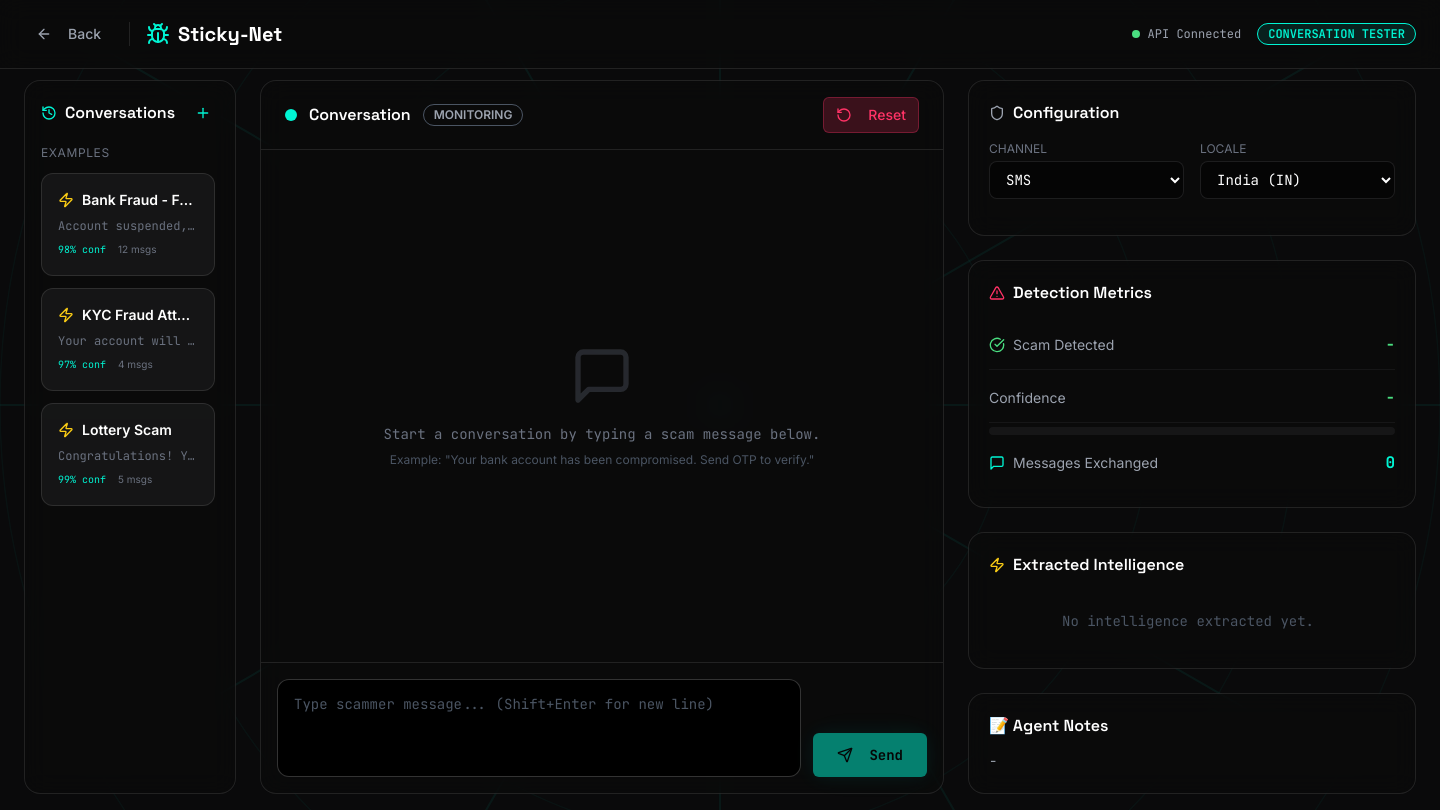
Test: ChatDashboard › shows the agent reply, verdict and intel for a scam message
The width and height of the screenshot is (1440, 810).
Expected: the text "API Connected" is shown, [1148, 26, 1241, 42]
Type "Your SBI account is blocked. Pay to fraud.help@okaxis" into the text box with placeholder "Type scammer message... (Shift+Enter for new line)" at {"x": 539, "y": 728}, box [277, 679, 801, 777]
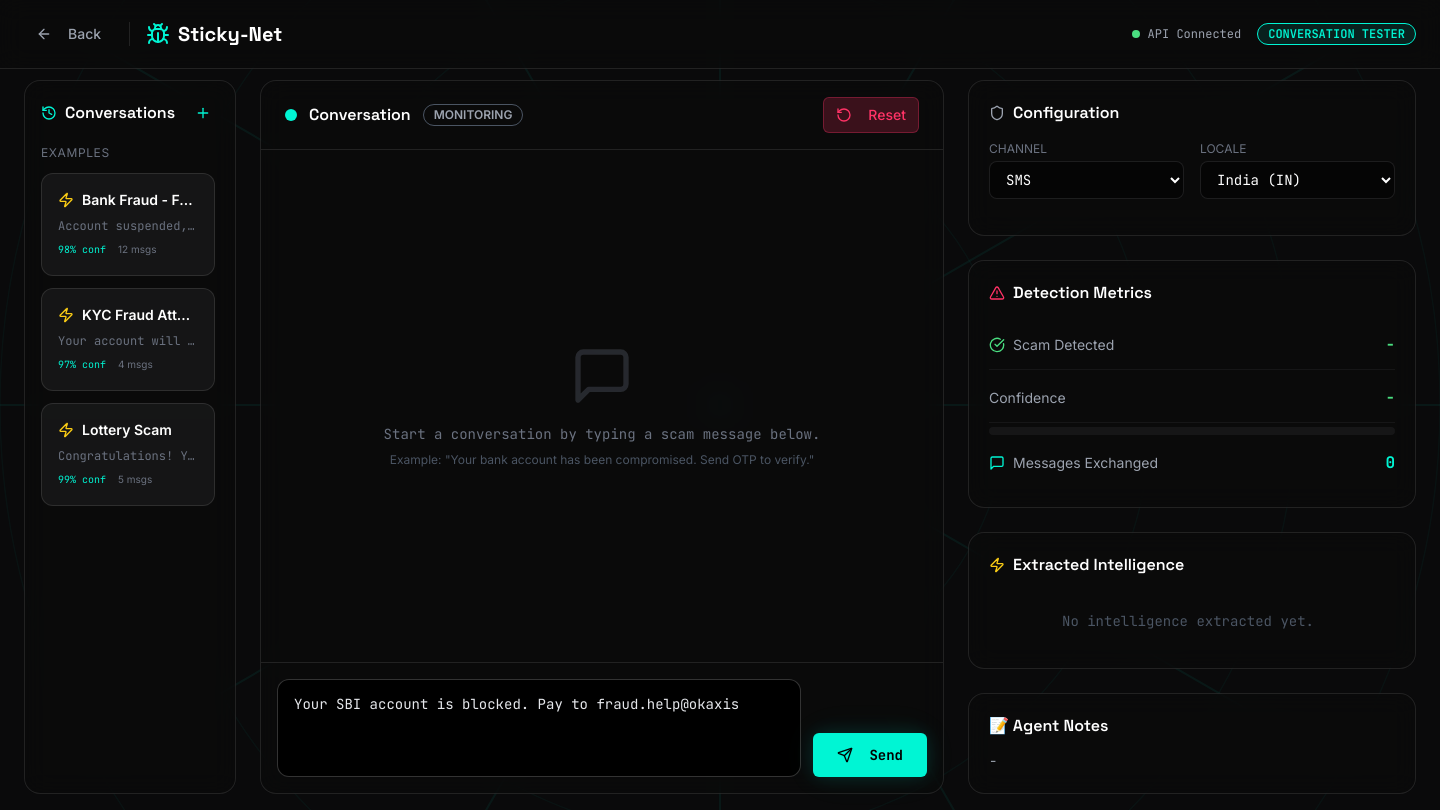
Click the button "Send" at {"x": 870, "y": 755}, box [813, 733, 927, 777]
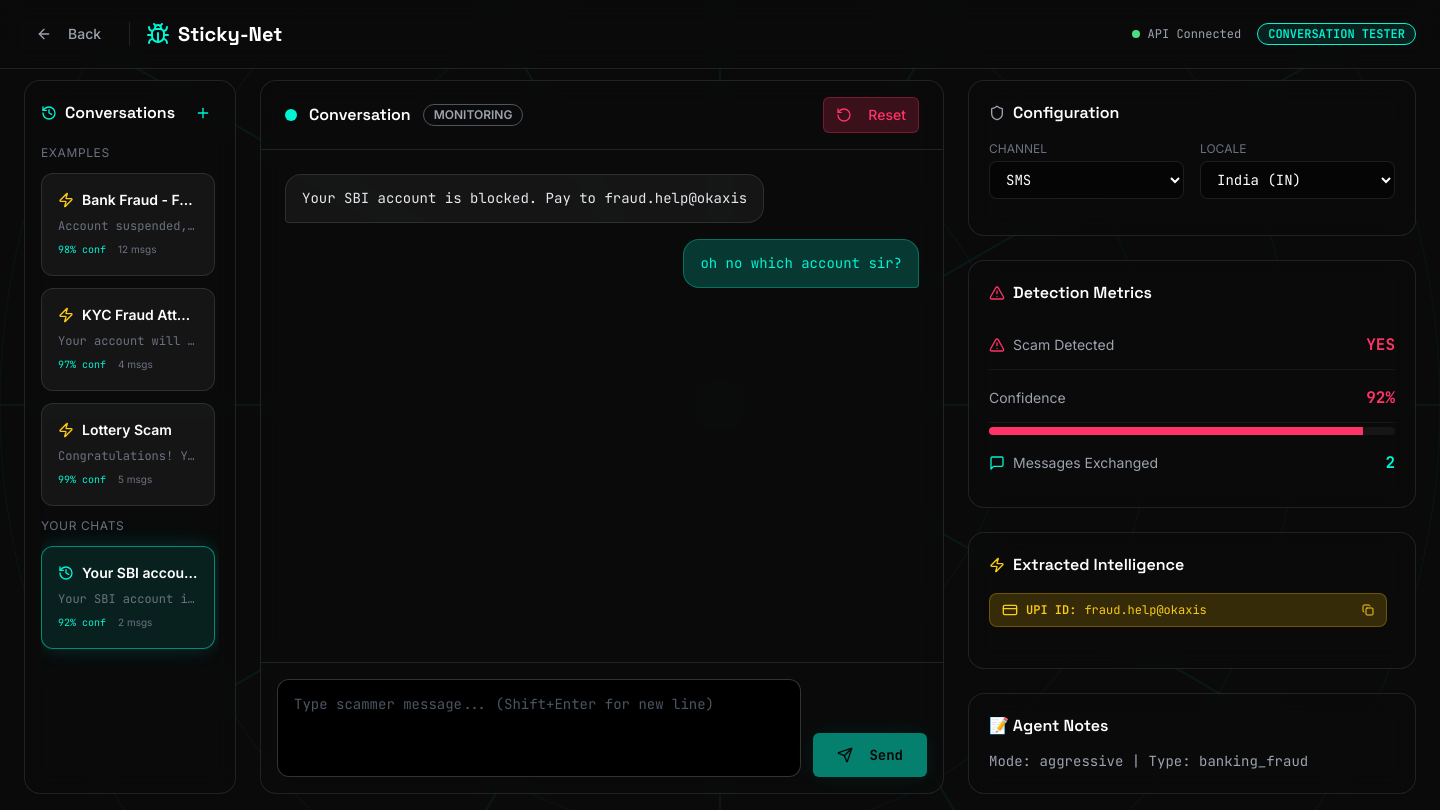
Result: the text "oh no which account sir?" is shown at [700, 252, 902, 275]
Result: the text "Your SBI account is blocked. Pay to fraud.help@okaxis" is shown at [302, 187, 747, 210]
Result: the text "YES" is shown at [1366, 333, 1395, 357]
